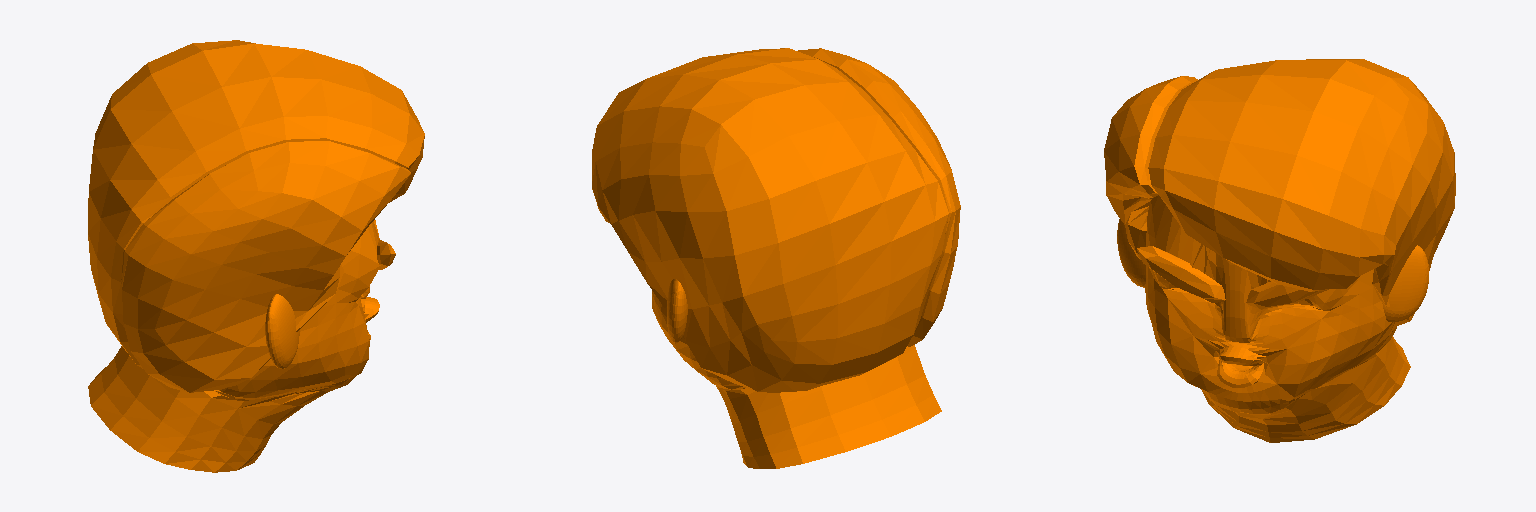
The model's file is trump_head_02.obj.
3 views of the same model, side by side, from view 1: azimuth 30°, elevation 25°; view 2: azimuth 150°, elevation 25°; view 3: azimuth 270°, elevation 25° (orthographic).
Parts seen in each view (by area): view 1: eyebrow_1.1; view 2: eyebrow_1.1; view 3: eyebrow_1.1.
Boxes of the visible parts, x1,y1,x2,y2 form: eyebrow_1.1: [88, 40, 424, 472]; eyebrow_1.1: [592, 48, 960, 468]; eyebrow_1.1: [1104, 59, 1455, 442].
Size of the model in its own units: 30.34 by 34.49 by 29.21.